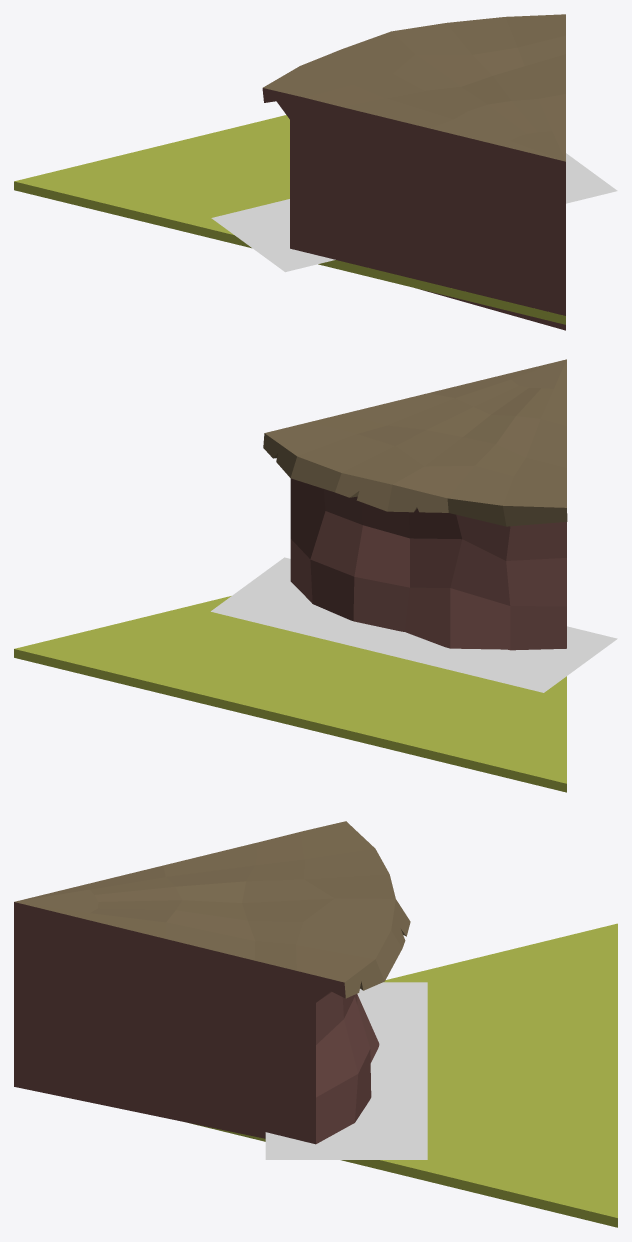
File: tile2.glb
The picture shows the model from 3 angles, top to bottom: view 1: azimuth 30°, elevation 25°; view 2: azimuth 150°, elevation 25°; view 3: azimuth 270°, elevation 25°; orthographic projection. The views are drawn at different scales.
Parts seen in each view (by area): view 1: hill.002, ground.002, rocks2; view 2: hill.002, ground.002, rocks2; view 3: hill.002, ground.002, rocks2.
Part boxes in pixels (x1,y1,x2,y2): hill.002: (262,14,565,330); ground.002: (14,115,565,324); rocks2: (211,153,617,272); hill.002: (263,359,567,650); ground.002: (14,596,566,792); rocks2: (211,557,617,692); hill.002: (14,821,410,1144); ground.002: (189,923,617,1227); rocks2: (265,982,427,1159).
Bounding box in the file's own units: 1 × 0.2973 × 0.866.
